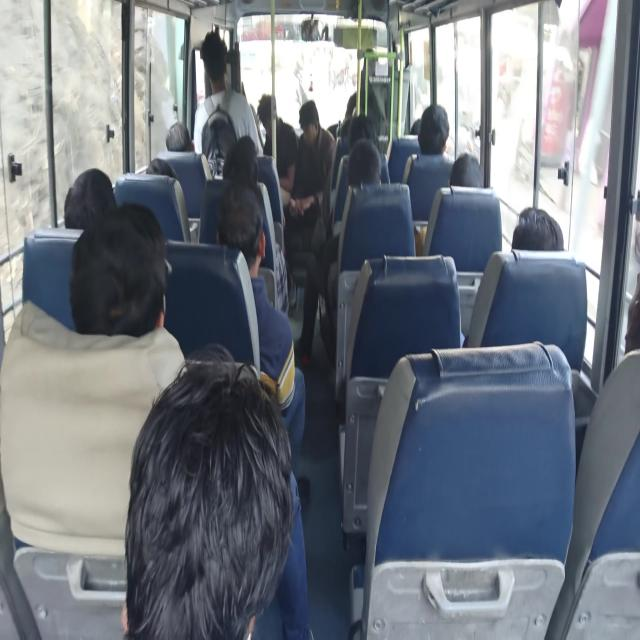person: (122, 344, 301, 638), (215, 181, 307, 484), (293, 138, 382, 365), (463, 206, 564, 346), (69, 201, 171, 338), (221, 135, 292, 313), (192, 30, 264, 163), (287, 100, 336, 260), (256, 93, 298, 206), (64, 167, 116, 230), (347, 112, 390, 185), (201, 106, 237, 177), (511, 206, 564, 251), (418, 103, 450, 158), (347, 138, 381, 188), (448, 152, 484, 188), (624, 271, 639, 355), (165, 121, 194, 152), (146, 156, 178, 178)
